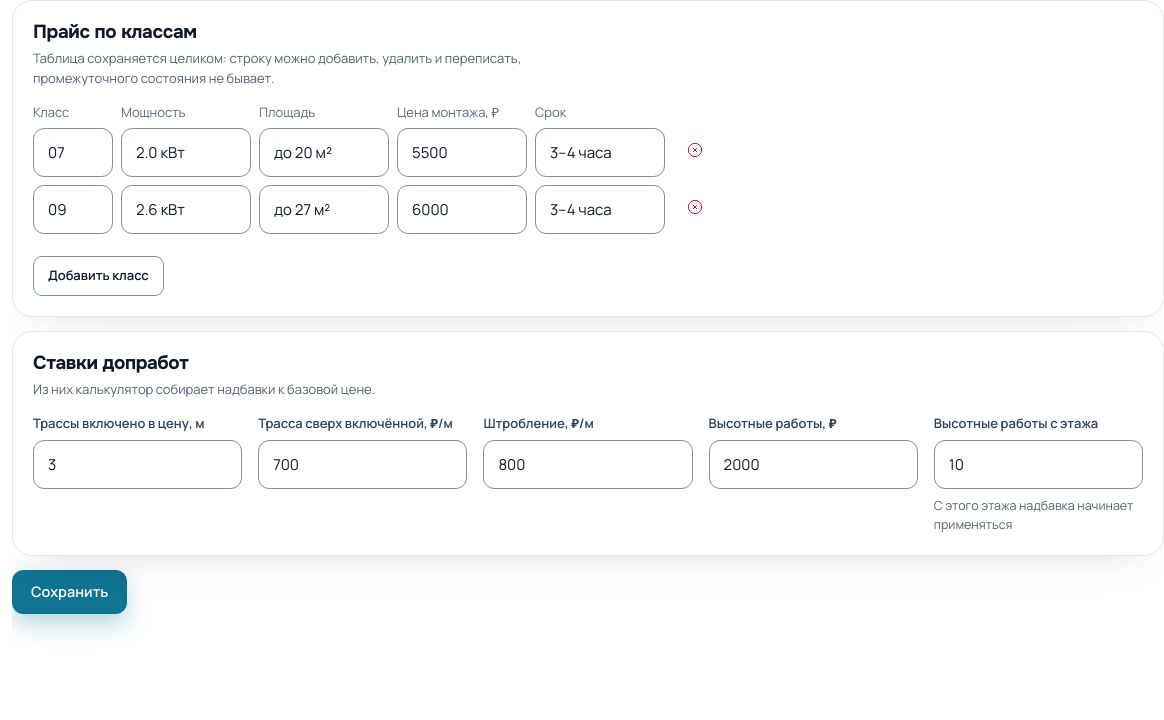
it: Форма цен › отказ сервера объясняется
The image size is (1164, 720).
Click the button "Сохранить" at (70,592), box [12,570,127,614]
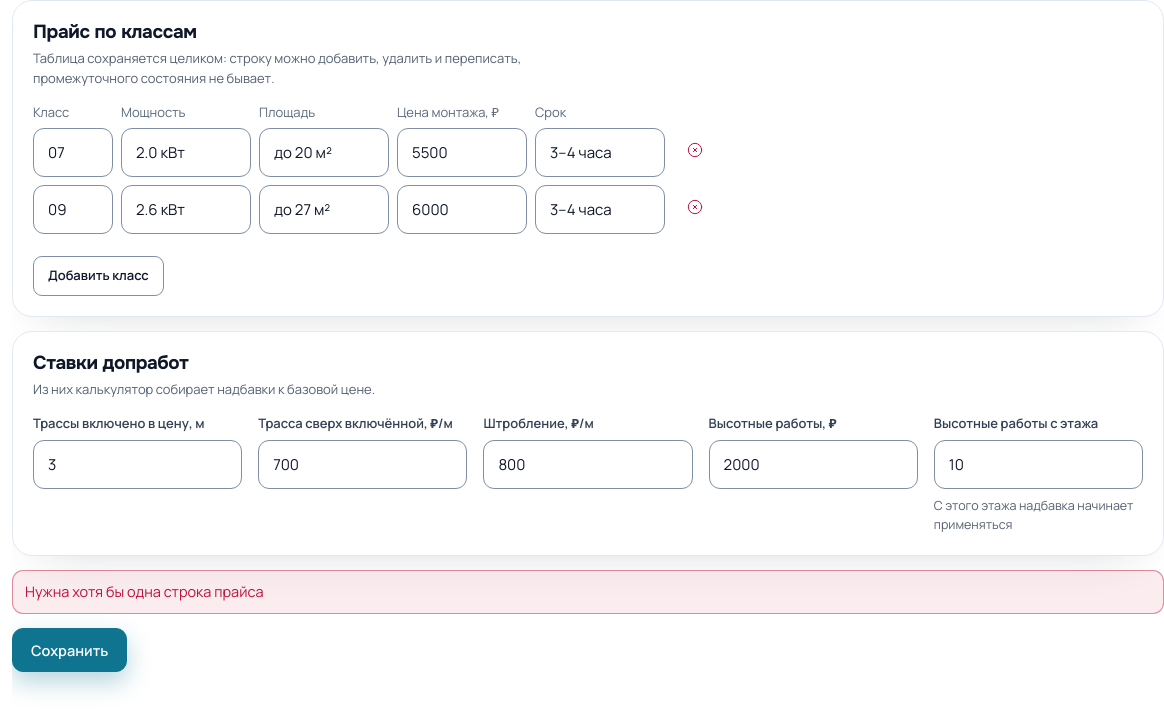
Result: the message shows "хотя бы одна строка" at [25,582,263,601]
